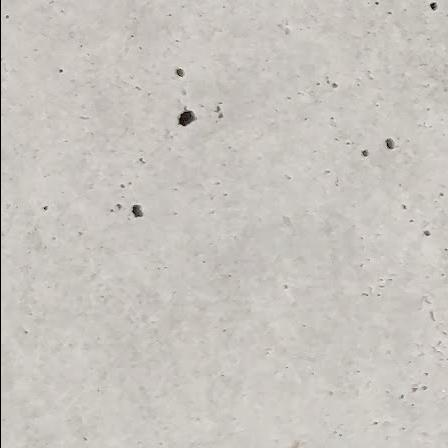spalling: (170, 105, 205, 140)
